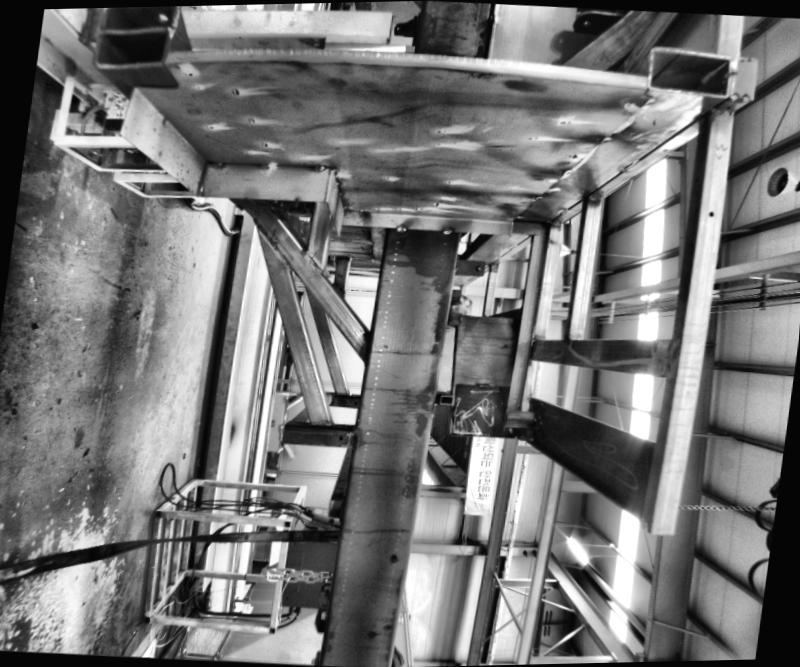hole: (704, 208, 715, 219), (388, 552, 393, 560), (334, 434, 340, 440), (628, 355, 633, 360)
welding: (249, 156, 274, 172), (205, 154, 225, 168), (436, 224, 455, 234), (392, 221, 405, 233), (304, 162, 322, 170)
